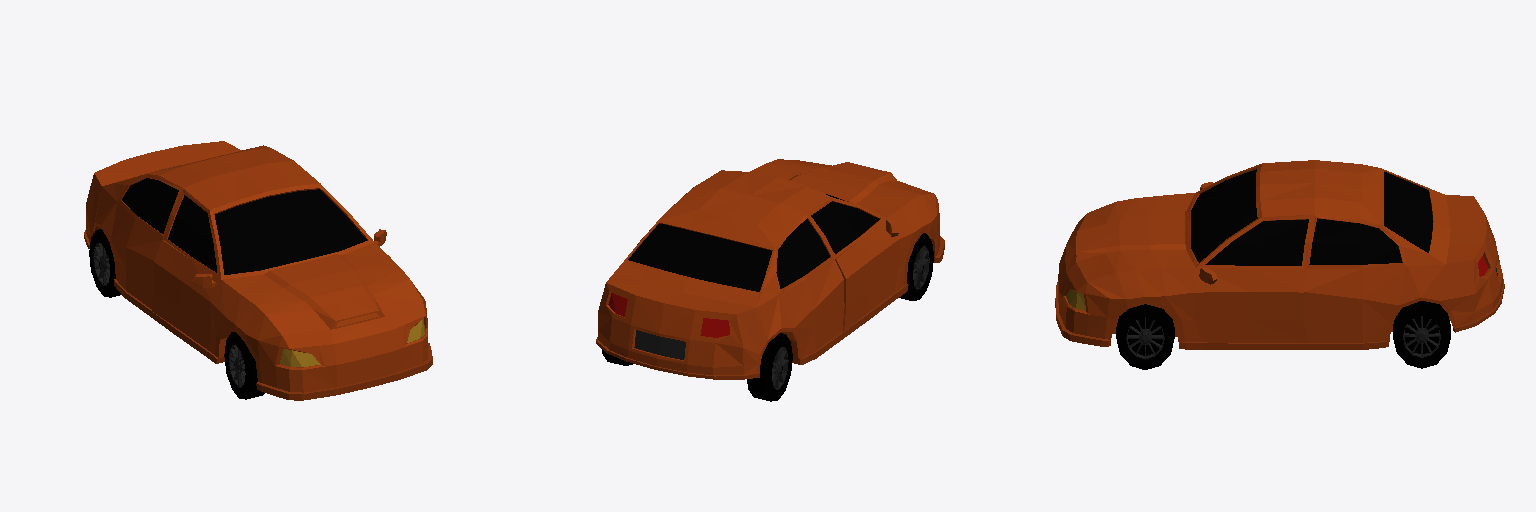
The model's file is car.obj.
3 views of the same model, side by side, from view 1: azimuth 30°, elevation 25°; view 2: azimuth 150°, elevation 25°; view 3: azimuth 270°, elevation 25° (orthographic).
Parts seen in each view (by area): view 1: SportsCar_Cube.005, SportsCar_FrontRightWheel_Cylinder.014, SportsCar_BackWheels_Cylinder.004; view 2: SportsCar_Cube.005, SportsCar_BackWheels_Cylinder.004, SportsCar_FrontRightWheel_Cylinder.014; view 3: SportsCar_Cube.005, SportsCar_BackWheels_Cylinder.004, SportsCar_FrontLeftWheel_Cylinder.013.
Boxes of the visible parts, <box> form: SportsCar_Cube.005: <box>84,141,432,400</box>; SportsCar_FrontRightWheel_Cylinder.014: <box>224,332,264,399</box>; SportsCar_BackWheels_Cylinder.004: <box>89,229,120,297</box>; SportsCar_Cube.005: <box>596,159,944,379</box>; SportsCar_BackWheels_Cylinder.004: <box>602,333,792,401</box>; SportsCar_FrontRightWheel_Cylinder.014: <box>899,233,933,300</box>; SportsCar_Cube.005: <box>1055,160,1504,349</box>; SportsCar_BackWheels_Cylinder.004: <box>1393,301,1450,368</box>; SportsCar_FrontLeftWheel_Cylinder.013: <box>1116,304,1174,369</box>.
Size of the model in its own units: 6.15 by 4.39 by 12.26.